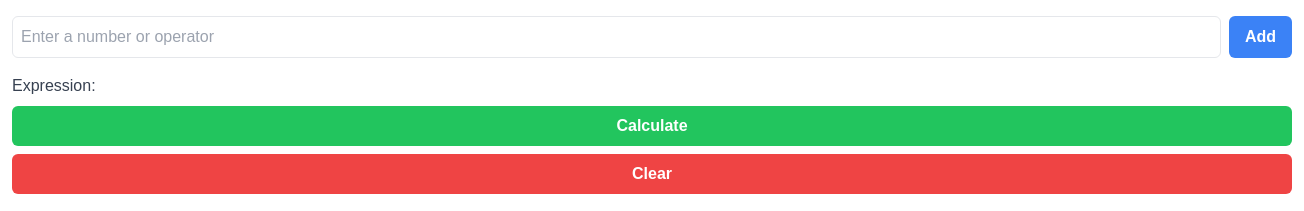
Test: Calculator Component › clears the expression
This screenshot has width=1304, height=211.
In the field with placeholder "Enter a number or operator": (616, 37) [12,16,1221,58], type "2"
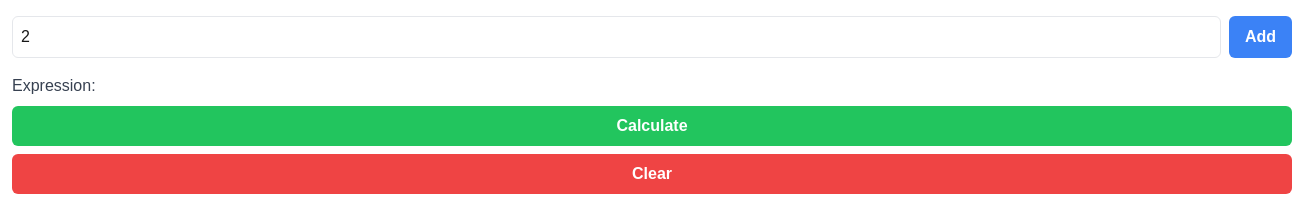
Click the button "Add": (1260, 37) [1229,16,1292,58]
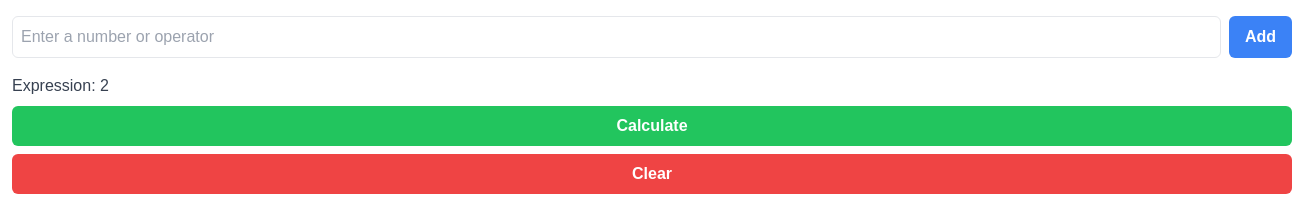
Click the button "Clear": (652, 174) [12,154,1292,194]
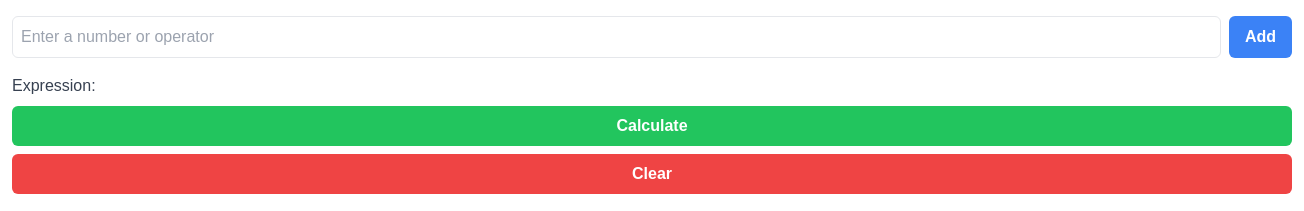
Expected: the text "Expression: 2" is gone
